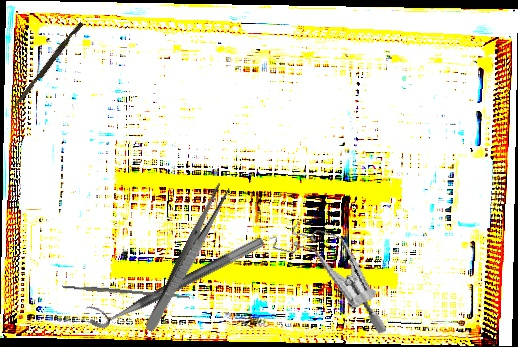Dressing Forceps: (142, 182, 233, 335)
Fixation Ring: (81, 221, 266, 335)
Pusher: (9, 20, 84, 115)
Scalpel Handle: (62, 283, 190, 300)
Speculum: (251, 212, 411, 336)
